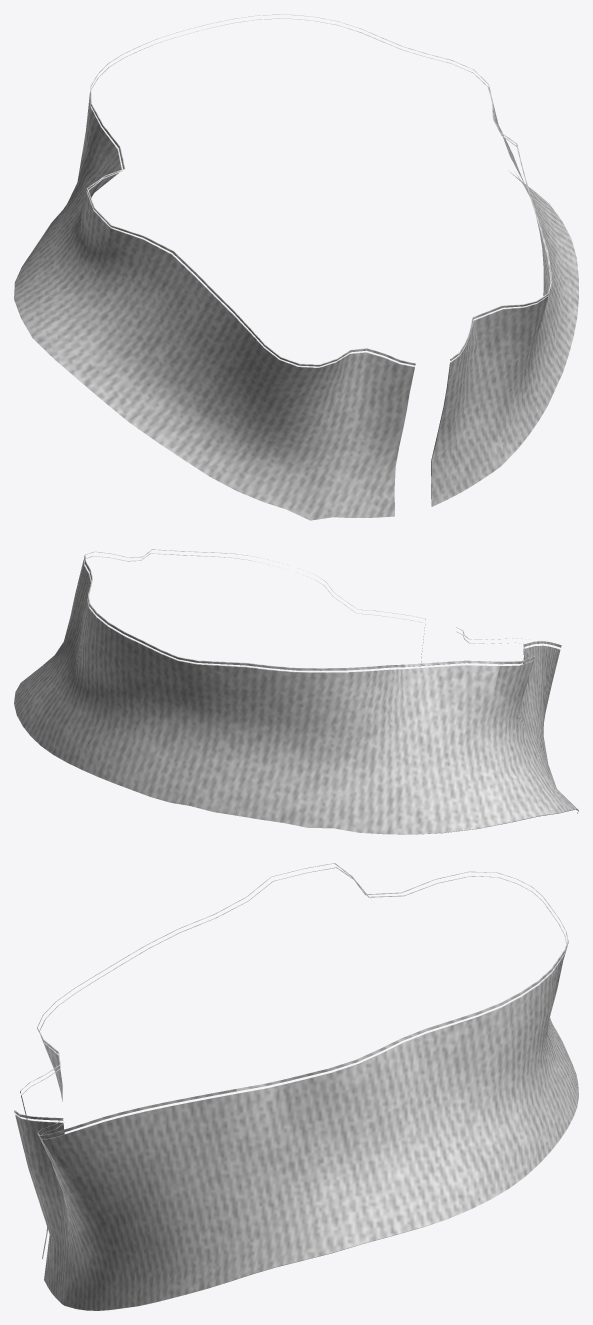
The model's file is Neck.glb.
The picture shows the model from 3 angles, top to bottom: view 1: azimuth 30°, elevation 25°; view 2: azimuth 150°, elevation 25°; view 3: azimuth 270°, elevation 25°; orthographic projection. The views are drawn at different scales.
Visible parts, largest first — view 1: Neck1; view 2: Neck1; view 3: Neck1.
Boxes of the visible parts, x1=… form: Neck1: x1=14, y1=14, x2=578, y2=520; Neck1: x1=14, y1=549, x2=578, y2=834; Neck1: x1=14, y1=863, x2=578, y2=1310.
Size of the model in its own units: 0.3197 by 0.1825 by 0.2739.
1 material, 1 textured.
